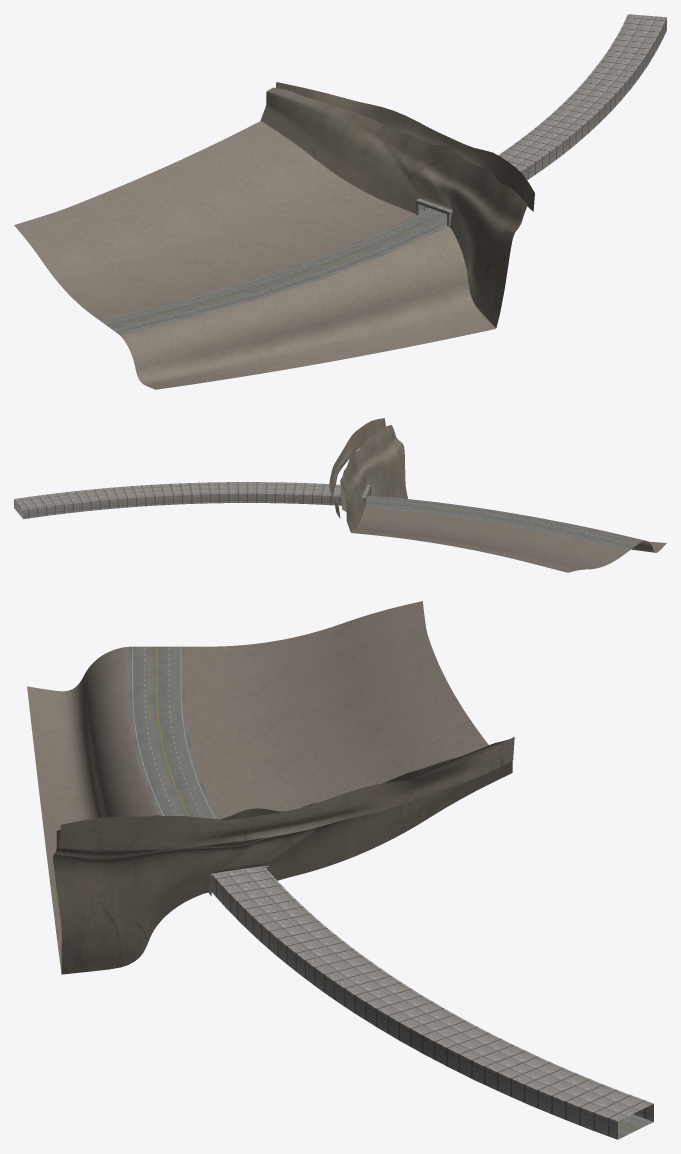
Rendered from dxb-tunnel.glb.
3 renders of one model, top to bottom at view 1: azimuth 30°, elevation 25°; view 2: azimuth 150°, elevation 25°; view 3: azimuth 270°, elevation 25°, orthographic. The views are drawn at different scales.
Visible parts, largest first — view 1: Material2 (×4); view 2: Material2 (×4); view 3: Material2 (×4).
Boxes of the visible parts, left/top/right/bottom form: Material2 (×4): left=14, top=14, right=666, bottom=389; Material2 (×4): left=14, top=418, right=666, bottom=572; Material2 (×4): left=27, top=601, right=653, bottom=1139.
Bounding box in the file's own units: 151 × 28.48 × 81.39.
Materials: 6 (4 with a texture image).
